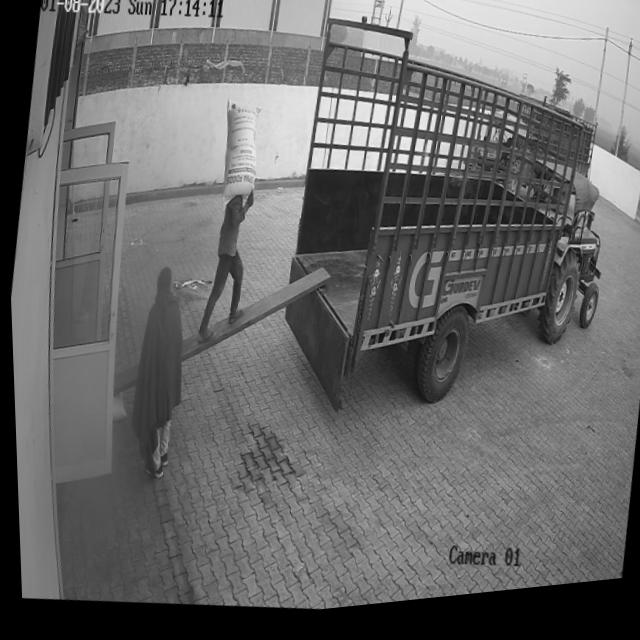sack: (213, 100, 264, 212)
